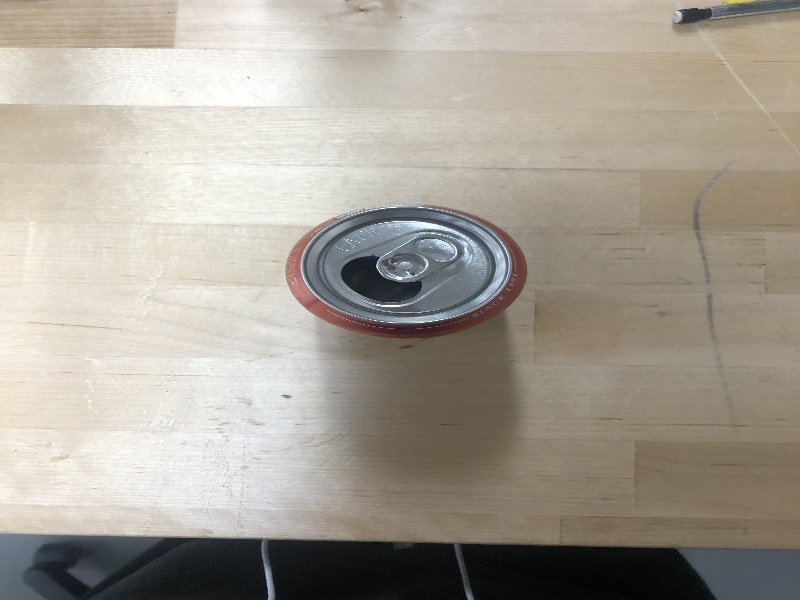metal: (285, 201, 533, 348)
